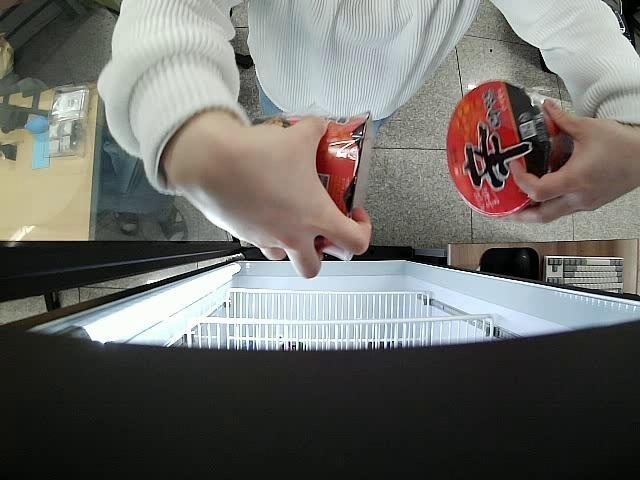01_ShinRamen_L: (445, 80, 574, 218), (254, 111, 368, 265)
